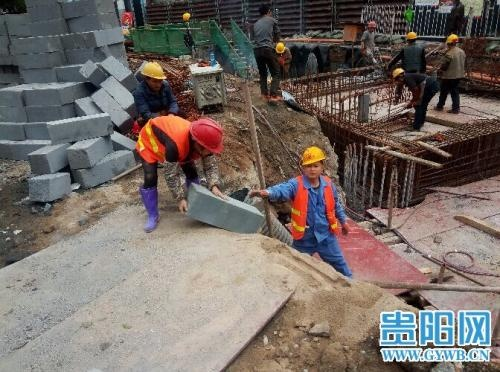none: (257, 3, 272, 19)
red: (187, 115, 223, 162), (367, 19, 378, 33)
yellow: (299, 143, 326, 182), (140, 62, 164, 91), (274, 41, 286, 57)
